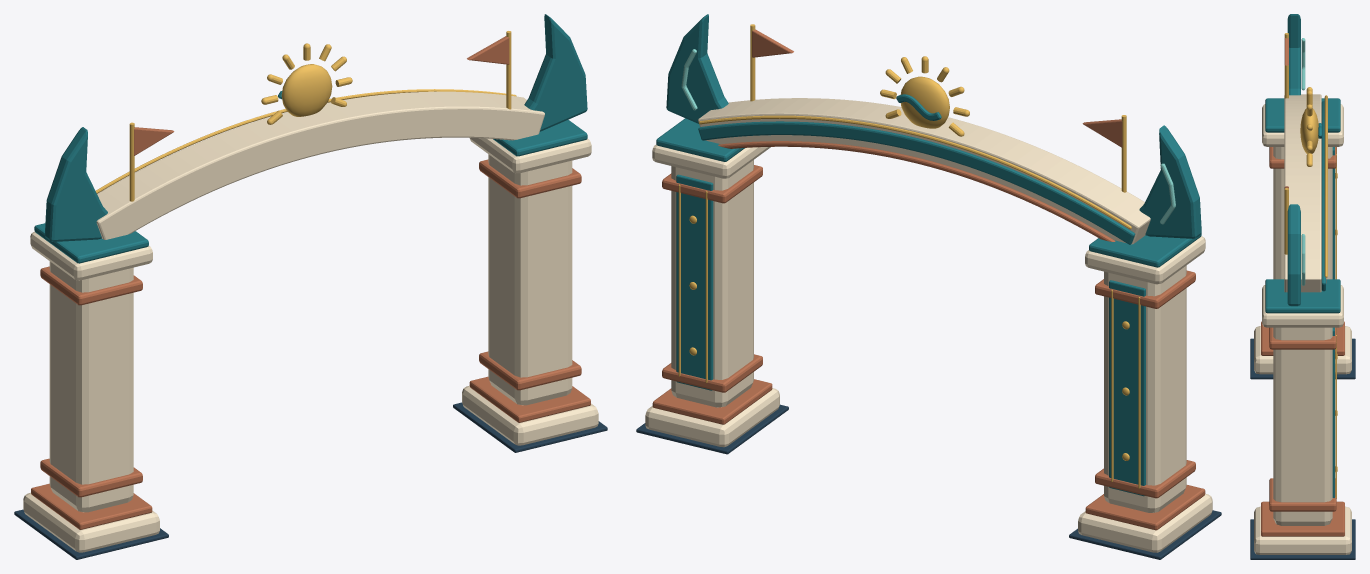
File: sonnenhafen_festival_gate.glb
3 views of the same model, side by side, from view 1: azimuth 30°, elevation 25°; view 2: azimuth 150°, elevation 25°; view 3: azimuth 270°, elevation 25° (orthographic). The views are drawn at different scales.
Visible parts, largest first — view 1: FestivalIvoryBatch, FestivalTealBatch, FestivalCopperBatch, FestivalGoldBatch, FestivalNavyBatch; view 2: FestivalIvoryBatch, FestivalTealBatch, FestivalCopperBatch, FestivalGoldBatch, FestivalNavyBatch, FestivalFoamBatch; view 3: FestivalIvoryBatch, FestivalTealBatch, FestivalCopperBatch, FestivalGoldBatch, FestivalNavyBatch, FestivalFoamBatch.
Boxes of the visible parts, box(x1,y1,x2,y2) form: FestivalIvoryBatch: box(23, 91, 598, 552); FestivalTealBatch: box(34, 14, 587, 263); FestivalCopperBatch: box(31, 36, 590, 529); FestivalGoldBatch: box(95, 31, 516, 201); FestivalNavyBatch: box(14, 402, 607, 559); FestivalIvoryBatch: box(645, 98, 1212, 552); FestivalTealBatch: box(656, 14, 1201, 496); FestivalCopperBatch: box(652, 29, 1205, 530); FestivalGoldBatch: box(678, 24, 1140, 488); FestivalNavyBatch: box(636, 404, 1221, 559); FestivalFoamBatch: box(681, 49, 1175, 224); FestivalIvoryBatch: box(1254, 94, 1351, 554); FestivalTealBatch: box(1265, 14, 1340, 497); FestivalCopperBatch: box(1261, 38, 1344, 536); FestivalGoldBatch: box(1284, 33, 1337, 498); FestivalNavyBatch: box(1250, 338, 1355, 559); FestivalFoamBatch: box(1301, 38, 1305, 285).
Size of the model in its own units: 7.79 by 5.91 by 1.57.
